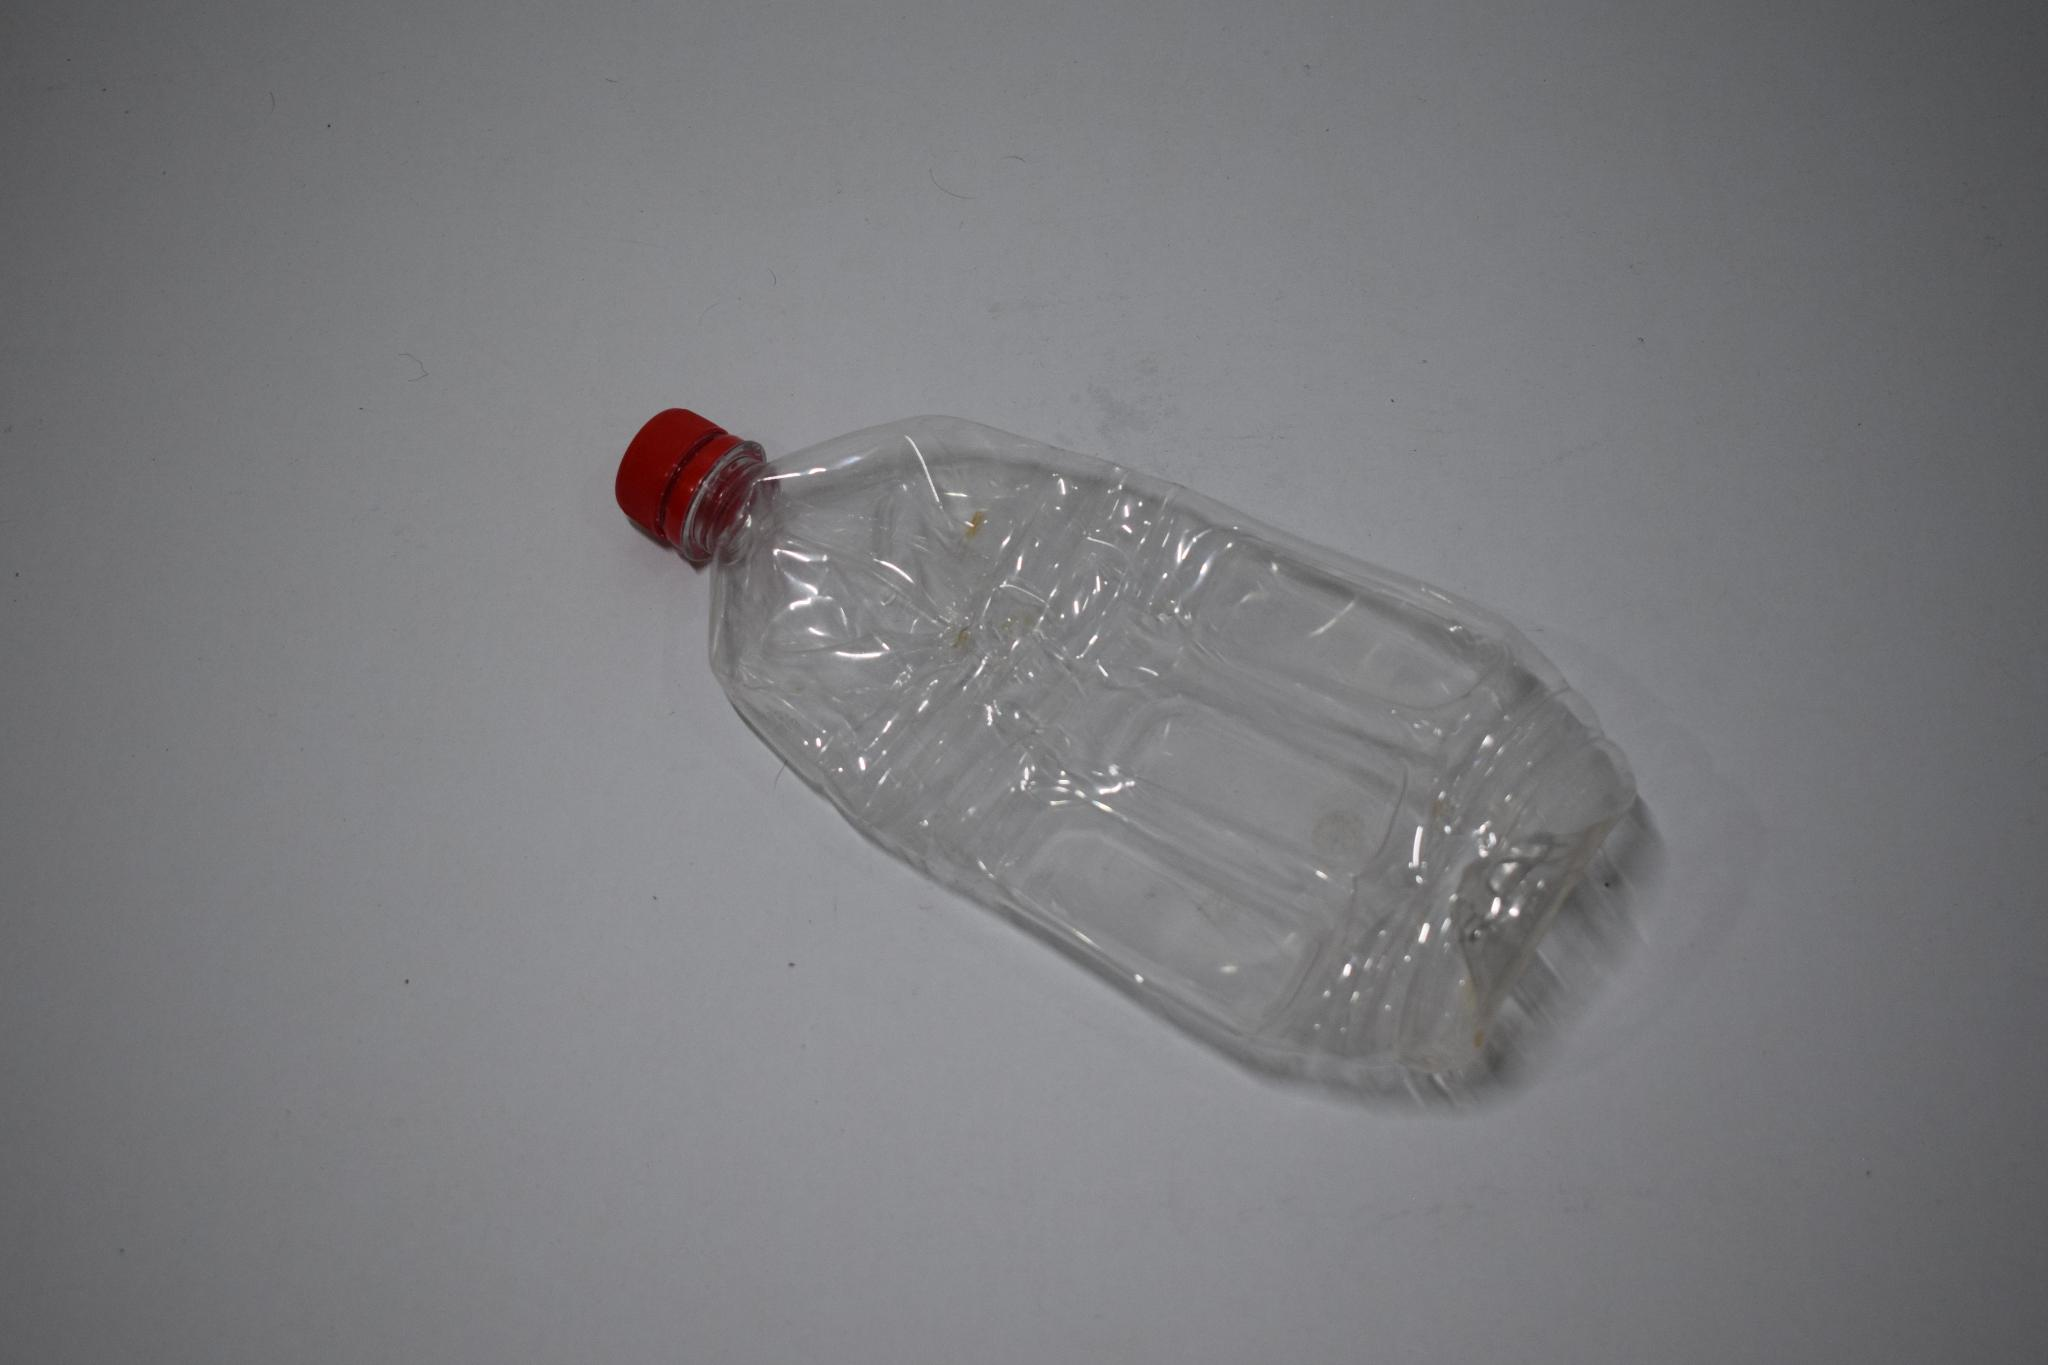bottle: (601, 372, 1683, 1118)
